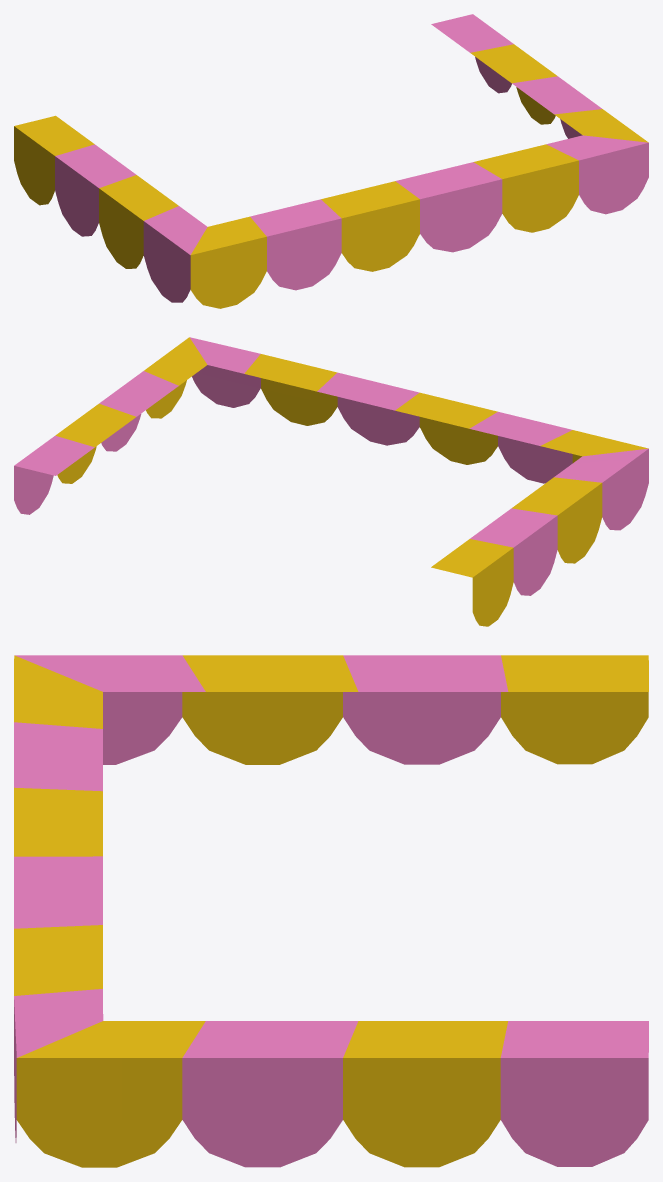
Rendered from shop01_upgrade2_s02.FBX.
The picture shows the model from 3 angles, top to bottom: view 1: azimuth 30°, elevation 25°; view 2: azimuth 150°, elevation 25°; view 3: azimuth 270°, elevation 25°; orthographic projection. The views are drawn at different scales.
Parts seen in each view (by area): view 1: shop01_upgrade2_s02; view 2: shop01_upgrade2_s02; view 3: shop01_upgrade2_s02.
Boxes of the visible parts, left/top/right/bottom form: shop01_upgrade2_s02: left=14, top=14, right=648, bottom=308; shop01_upgrade2_s02: left=14, top=337, right=648, bottom=626; shop01_upgrade2_s02: left=14, top=655, right=648, bottom=1167.
Bounding box in the file's own units: 514 × 342 × 65.42.
Materials: 1 (1 with a texture image).
